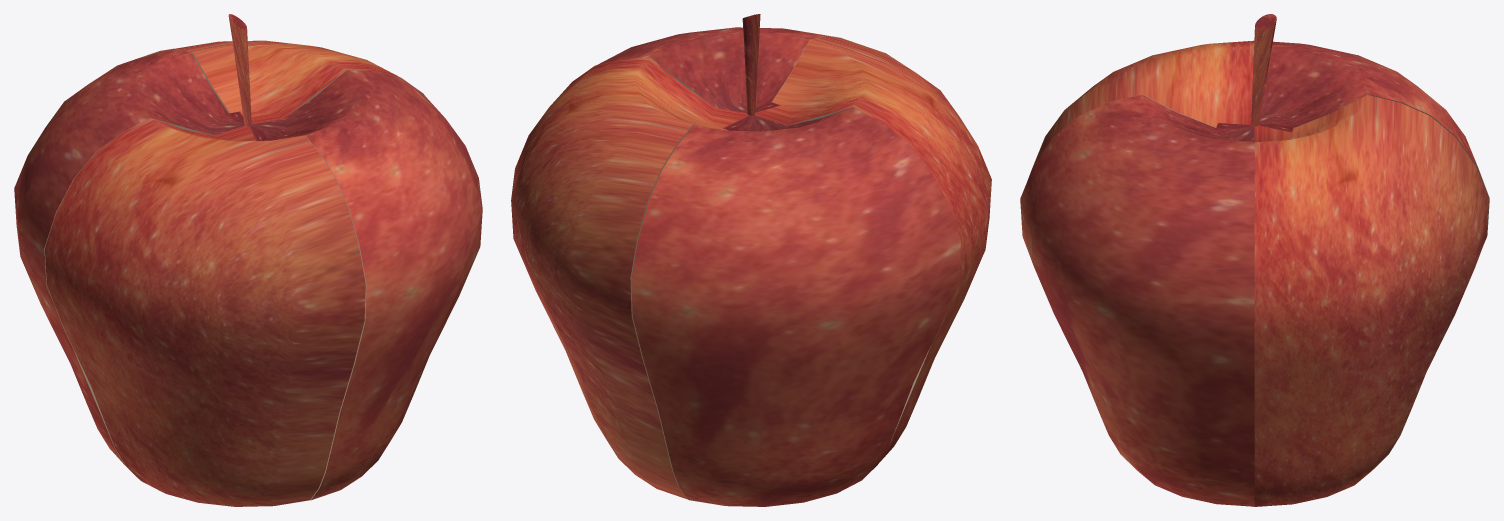
The model's file is RedCutApple.fbx.
The picture shows the model from 3 angles, left to right: view 1: azimuth 30°, elevation 25°; view 2: azimuth 150°, elevation 25°; view 3: azimuth 270°, elevation 25°; orthographic projection. The views are drawn at different scales.
Visible parts, largest first — view 1: polySurface12, polySurface9, polySurface10, polySurface11; view 2: polySurface10, polySurface11, polySurface12, polySurface9; view 3: polySurface11, polySurface9, polySurface12, polySurface10.
Boxes of the visible parts, left/top/right/bottom form: polySurface12: left=45, top=118, right=365, bottom=506; polySurface9: left=250, top=70, right=482, bottom=500; polySurface10: left=14, top=48, right=245, bottom=480; polySurface11: left=176, top=14, right=424, bottom=126; polySurface10: left=631, top=107, right=960, bottom=506; polySurface11: left=511, top=14, right=760, bottom=499; polySurface12: left=754, top=36, right=991, bottom=463; polySurface9: left=597, top=27, right=841, bottom=116; polySurface11: left=1251, top=14, right=1488, bottom=506; polySurface9: left=1020, top=94, right=1254, bottom=506; polySurface12: left=1029, top=40, right=1254, bottom=175; polySurface10: left=1258, top=41, right=1489, bottom=242.
Size of the model in its own units: 1.9 by 1.97 by 1.89.
